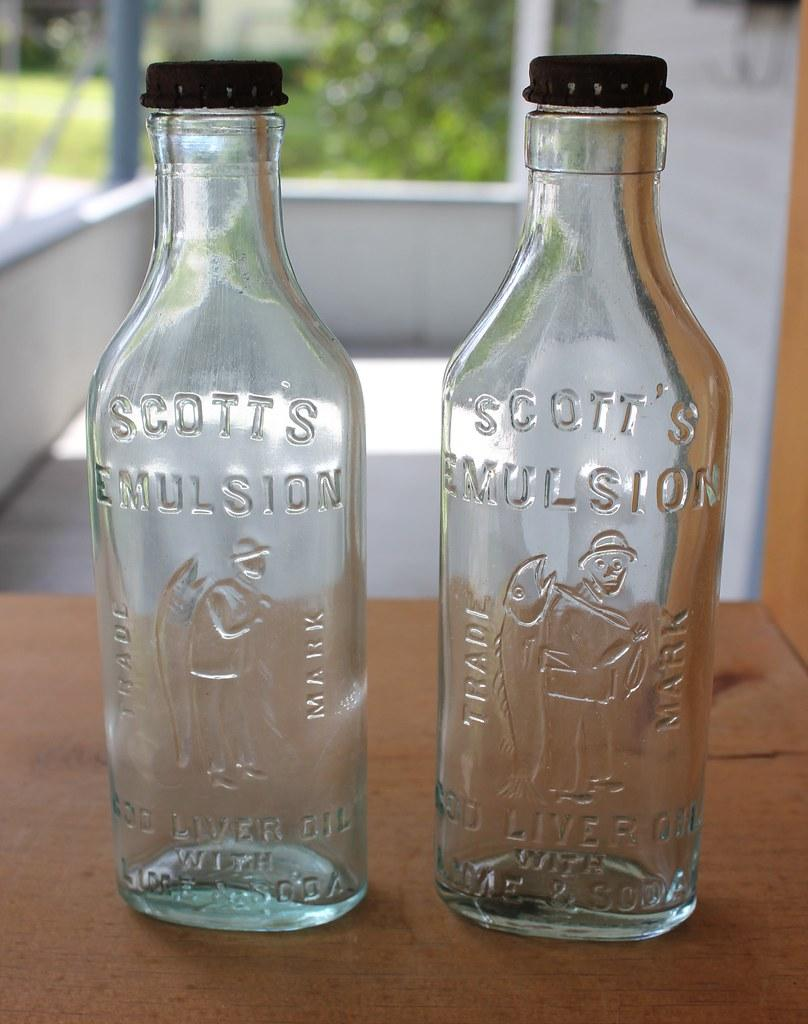bottle: (434, 53, 734, 943), (86, 59, 370, 933)
